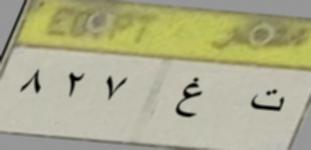2: (63, 68, 92, 99)
7: (100, 70, 130, 105)
8: (18, 63, 46, 98)
ghayn: (175, 75, 204, 123)
taa: (247, 81, 288, 117)
